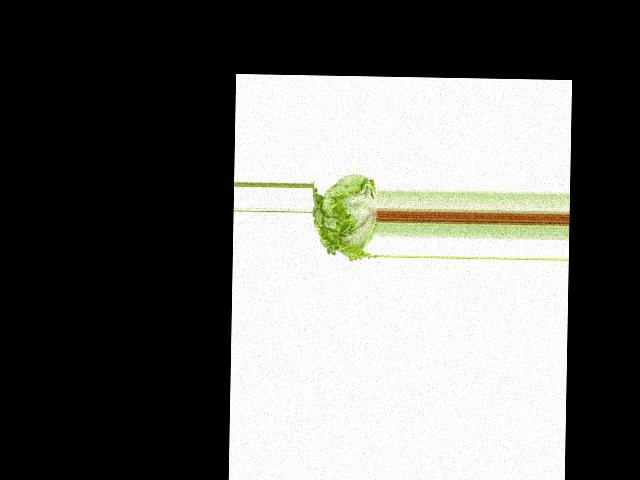lettuce: (312, 170, 378, 264)
